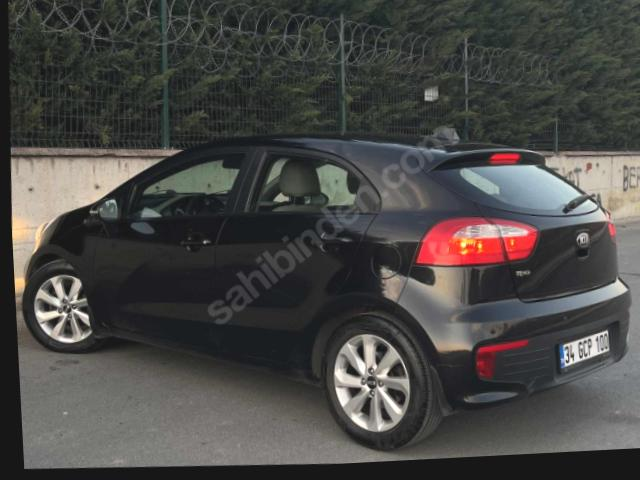plaka: (560, 331, 609, 368)
